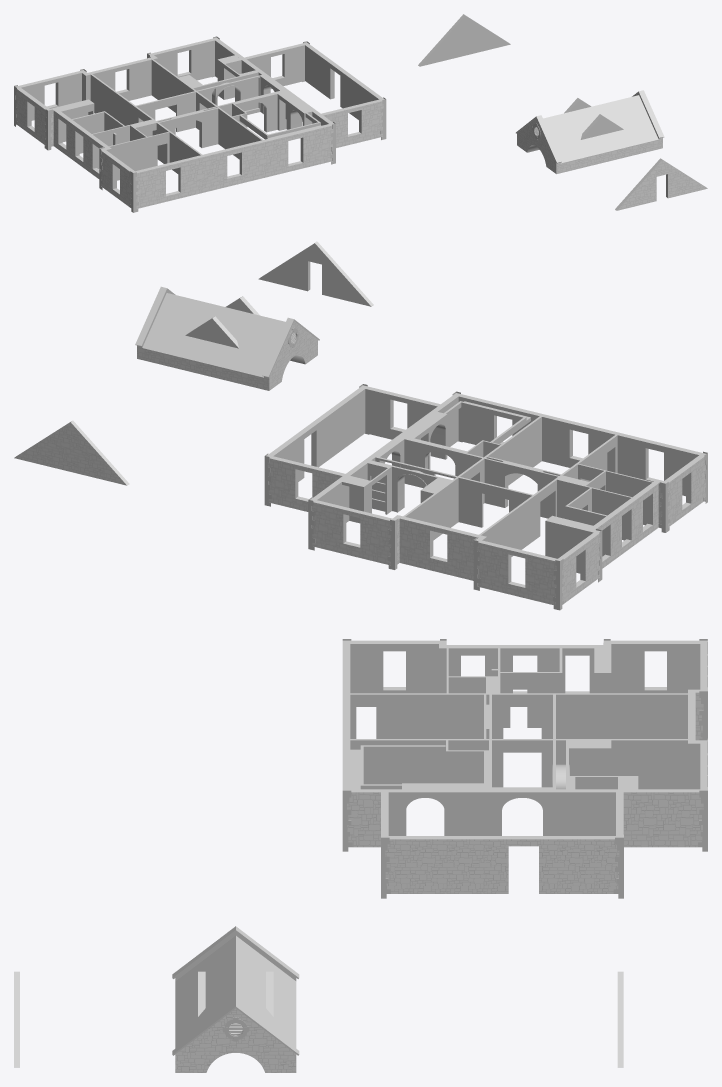
The model's file is Storey__FirstFloor__ProposedWalls__MeshModel__.glb.
3 views of the same model, one above another, from view 1: azimuth 30°, elevation 25°; view 2: azimuth 150°, elevation 25°; view 3: azimuth 270°, elevation 25° (orthographic). The views are drawn at different scales.
Parts seen in each view (by area): view 1: 21__ProposedBuilding__Walls::Default, 21__ProposedBuilding__Walls::MAT000E__Masonry__StoneworkPatt, 76__LineworkModifier__FineDetail__Walls::Default; view 2: 21__ProposedBuilding__Walls::Default, 21__ProposedBuilding__Walls::MAT000E__Masonry__StoneworkPatt, 76__LineworkModifier__FineDetail__Walls::Default; view 3: 21__ProposedBuilding__Walls::Default, 21__ProposedBuilding__Walls::MAT000E__Masonry__StoneworkPatt, 76__LineworkModifier__FineDetail__Walls::Default.
Part boxes in pixels (x1,y1,x2,y2): 21__ProposedBuilding__Walls::Default: (16,14,704,210); 21__ProposedBuilding__Walls::MAT000E__Masonry__StoneworkPatt: (15,57,707,210); 76__LineworkModifier__FineDetail__Walls::Default: (14,36,664,212); 21__ProposedBuilding__Walls::Default: (16,241,705,587); 21__ProposedBuilding__Walls::MAT000E__Masonry__StoneworkPatt: (14,321,705,605); 76__LineworkModifier__FineDetail__Walls::Default: (135,286,707,610); 21__ProposedBuilding__Walls::Default: (14,640,707,1067); 21__ProposedBuilding__Walls::MAT000E__Masonry__StoneworkPatt: (175,692,703,1072); 76__LineworkModifier__FineDetail__Walls::Default: (172,639,707,1055).
Bounding box in the file's own units: 41.75 × 4.29 × 34.41.
Materials: 3 (1 with a texture image).
